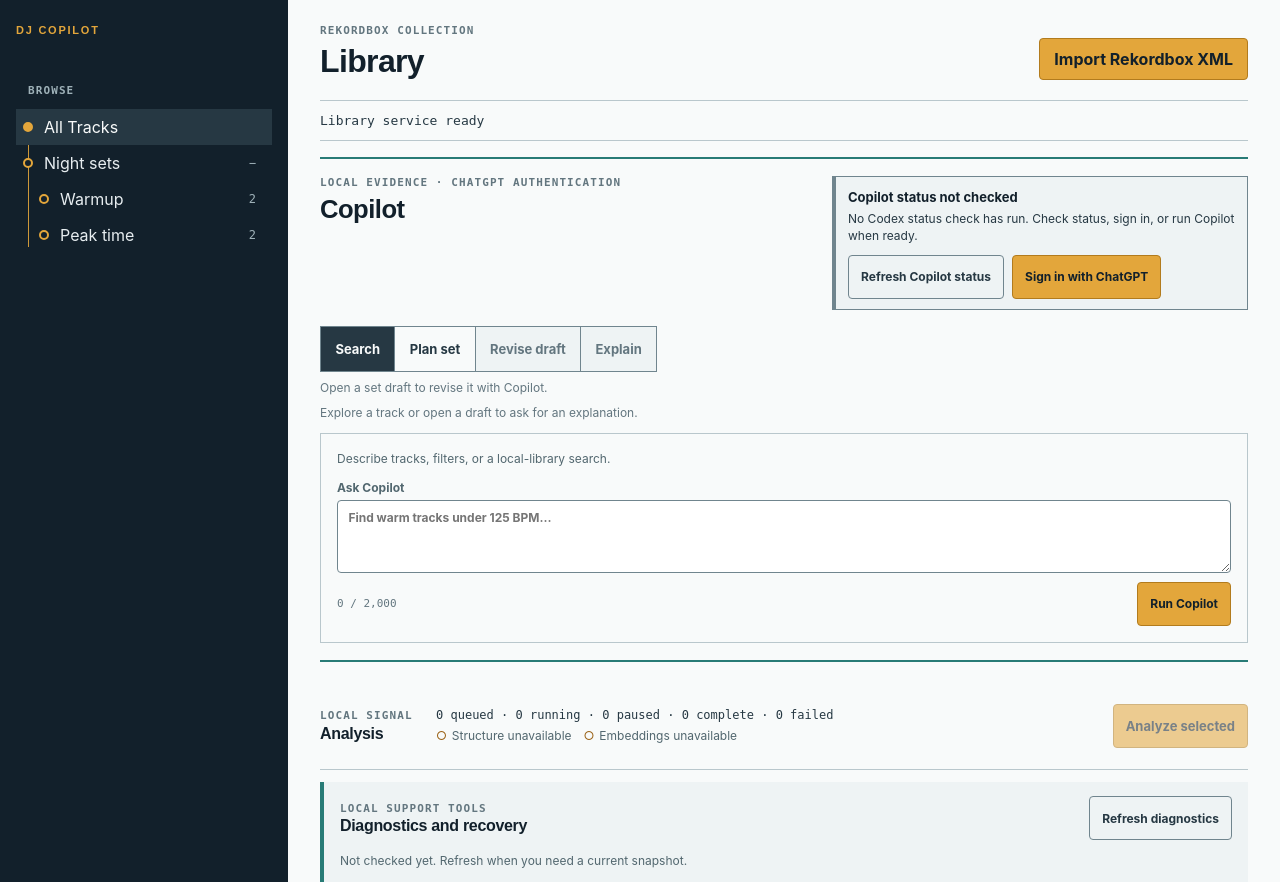
Test: LibraryScreen › imports Rekordbox XML when the primary toolbar control is used
Expected: the text "Library service ready" is shown, x1=320 y1=113 x2=484 y2=128
Click the button "Import Rekordbox XML" at [1144, 59], box x1=1039 y1=38 x2=1248 y2=80
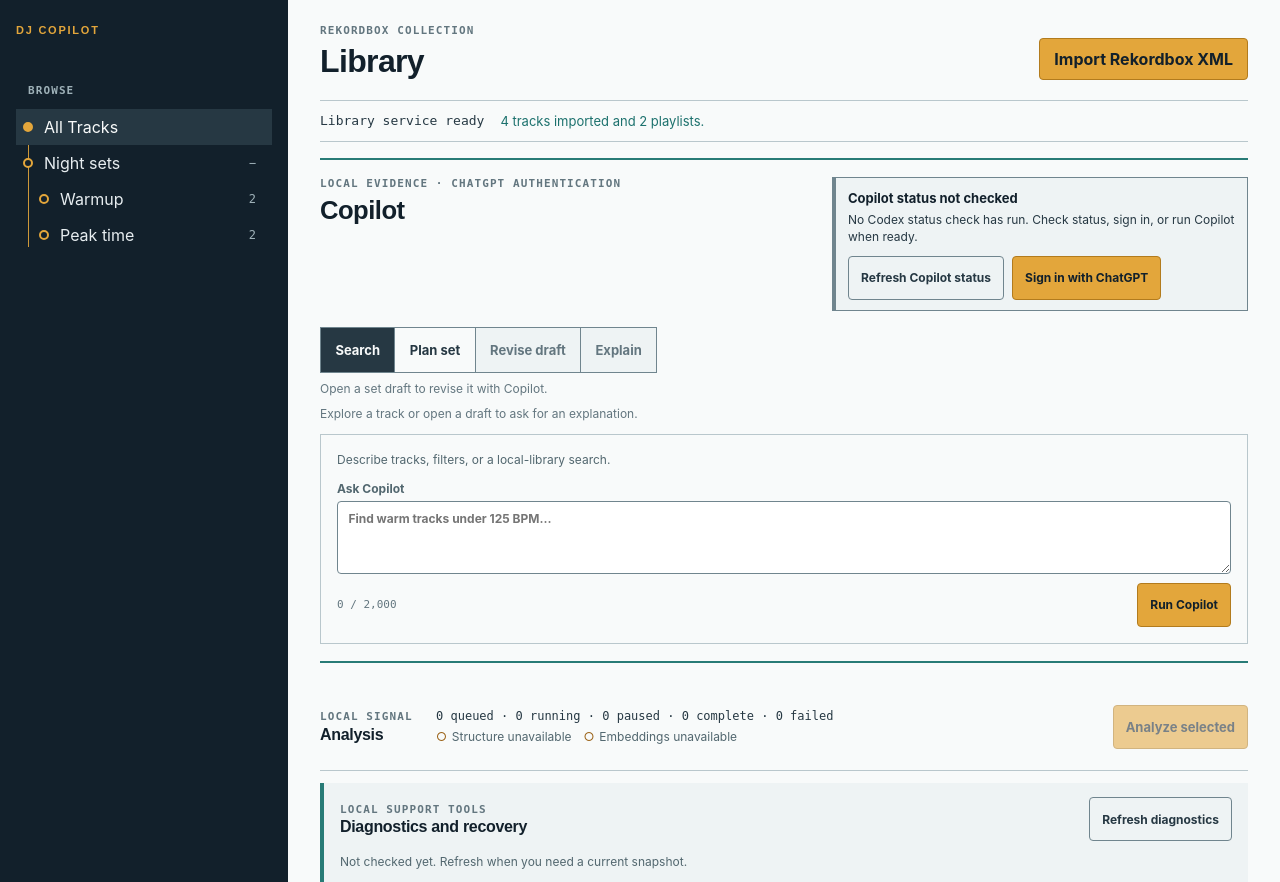
Expected: the text "4 tracks imported and 2 playlists." is shown, x1=500 y1=113 x2=704 y2=129
